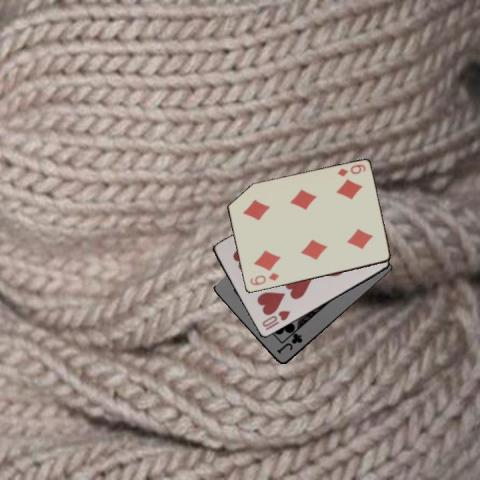10h: (259, 308, 292, 332)
6d: (247, 270, 280, 287), (334, 161, 367, 178)
Jc: (274, 331, 304, 355)
